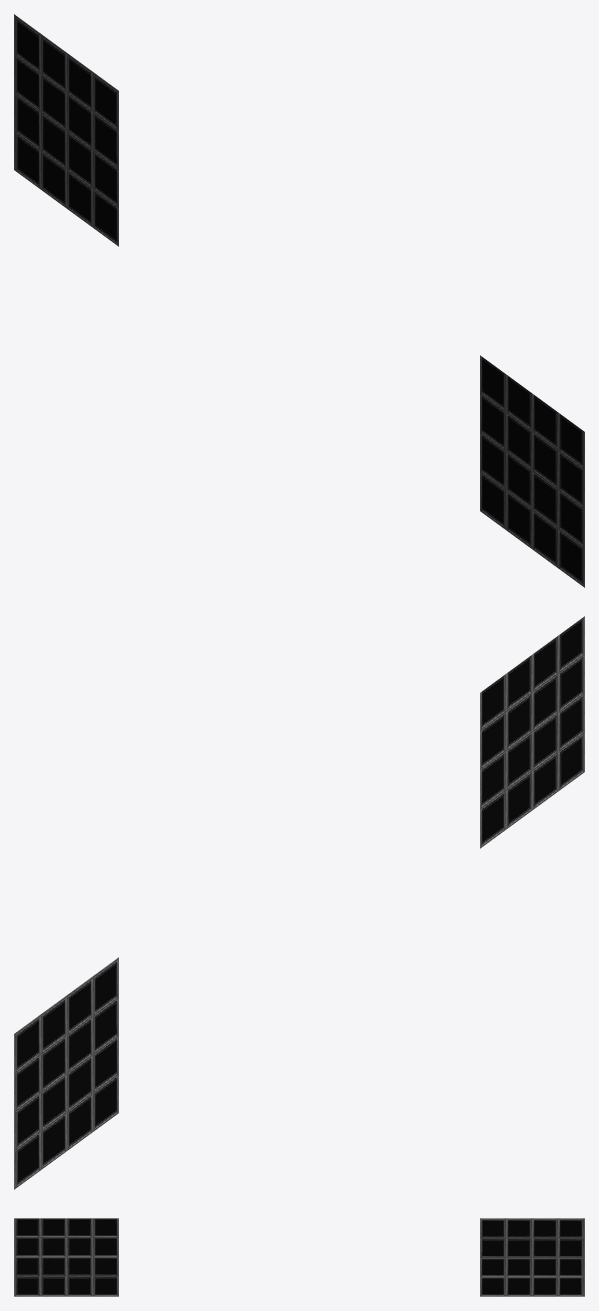
Rendered from Archives_Alpha_12.glb.
3 views of the same model, one above another, from view 1: azimuth 30°, elevation 25°; view 2: azimuth 150°, elevation 25°; view 3: azimuth 270°, elevation 25° (orthographic). The views are drawn at different scales.
Visible parts, largest first — view 1: Archives_Alpha_12; view 2: Archives_Alpha_12; view 3: Archives_Alpha_12.
Boxes of the visible parts, x1,y1,x2,y2 form: Archives_Alpha_12: (14,14,584,587); Archives_Alpha_12: (14,616,584,1189); Archives_Alpha_12: (14,1218,584,1296).
Size of the model in its own units: 0 by 5.13 by 34.
1 material, 1 textured.
